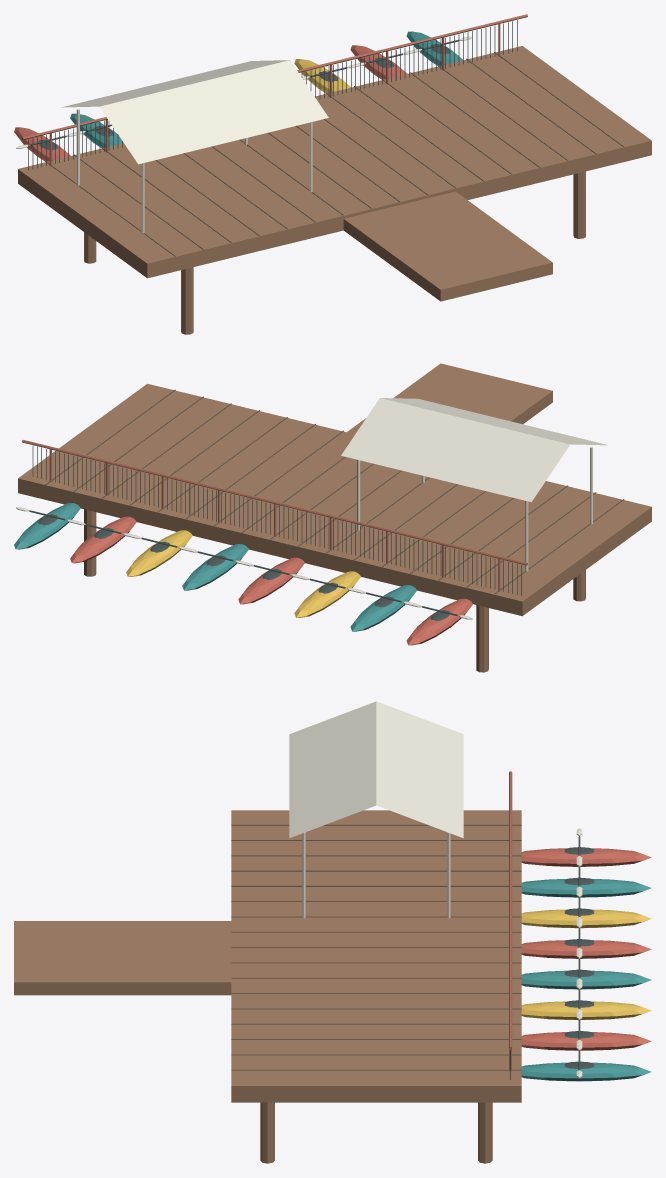
Rendered from sunland_dock.glb.
3 views of the same model, one above another, from view 1: azimuth 30°, elevation 25°; view 2: azimuth 150°, elevation 25°; view 3: azimuth 270°, elevation 25° (orthographic). The views are drawn at different scales.
Visible parts, largest first — view 1: sunland_dock_timber, sunland_dock_white, sunland_dock_bark, sunland_dock_metal, sunland_dock_terracotta, sunland_dock_kayak_red, sunland_dock_kayak_teal, sunland_dock_kayak_yellow; view 2: sunland_dock_timber, sunland_dock_white, sunland_dock_metal, sunland_dock_bark, sunland_dock_kayak_red, sunland_dock_kayak_teal, sunland_dock_terracotta, sunland_dock_kayak_yellow; view 3: sunland_dock_timber, sunland_dock_white, sunland_dock_bark, sunland_dock_kayak_teal, sunland_dock_kayak_red, sunland_dock_kayak_yellow, sunland_dock_metal, sunland_dock_terracotta.
Part boxes in pixels (x1=…): sunland_dock_timber: x1=18, y1=46, x2=651, y2=334; sunland_dock_white: x1=16, y1=36, x2=471, y2=233; sunland_dock_bark: x1=45, y1=52, x2=624, y2=256; sunland_dock_metal: x1=28, y1=20, x2=517, y2=170; sunland_dock_terracotta: x1=22, y1=14, x2=527, y2=165; sunland_dock_kayak_red: x1=14, y1=45, x2=407, y2=161; sunland_dock_kayak_teal: x1=70, y1=31, x2=462, y2=147; sunland_dock_kayak_yellow: x1=294, y1=59, x2=350, y2=93; sunland_dock_timber: x1=18, y1=363, x2=651, y2=672; sunland_dock_white: x1=16, y1=398, x2=607, y2=619; sunland_dock_metal: x1=29, y1=446, x2=521, y2=620; sunland_dock_bark: x1=45, y1=389, x2=624, y2=594; sunland_dock_kayak_red: x1=70, y1=516, x2=472, y2=645; sunland_dock_kayak_teal: x1=14, y1=503, x2=416, y2=631; sunland_dock_terracotta: x1=22, y1=440, x2=527, y2=591; sunland_dock_kayak_yellow: x1=126, y1=530, x2=360, y2=617; sunland_dock_timber: x1=14, y1=810, x2=521, y2=1163; sunland_dock_white: x1=289, y1=701, x2=582, y2=1078; sunland_dock_bark: x1=231, y1=824, x2=521, y2=1070; sunland_dock_kayak_teal: x1=521, y1=878, x2=651, y2=1081; sunland_dock_kayak_red: x1=521, y1=848, x2=651, y2=1050; sunland_dock_kayak_yellow: x1=521, y1=909, x2=651, y2=1020; sunland_dock_metal: x1=510, y1=836, x2=594, y2=1079; sunland_dock_terracotta: x1=509, y1=771, x2=512, y2=1071.
Bounding box in the file's own units: 18 × 6.8 × 17.6.
